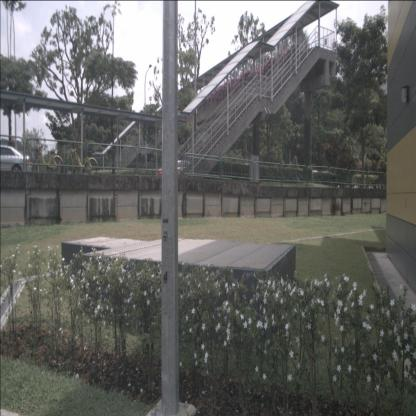vehicle-bicycle: (31, 139, 64, 176), (70, 146, 98, 176)
vehicle-car: (0, 143, 32, 177), (156, 159, 198, 183)
